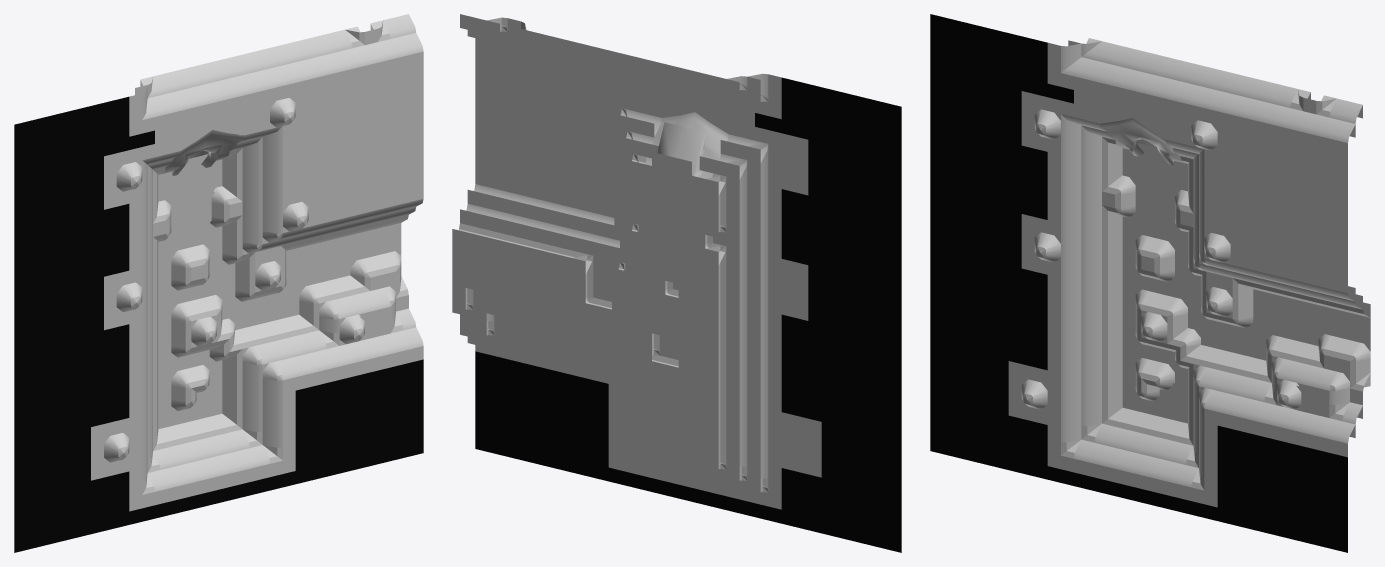
Rendered from Voltic-Cave_00_04.obj.
The picture shows the model from 3 angles, left to right: view 1: azimuth 30°, elevation 25°; view 2: azimuth 150°, elevation 25°; view 3: azimuth 330°, elevation 25°; orthographic projection. The views are drawn at different scales.
Parts seen in each view (by area): view 1: map; view 2: map; view 3: map.
Part boxes in pixels (x1=…): map: x1=14, y1=14, x2=423, y2=552; map: x1=452, y1=14, x2=901, y2=552; map: x1=930, y1=14, x2=1370, y2=552.
Size of the model in its own units: 32 by 32 by 4.
